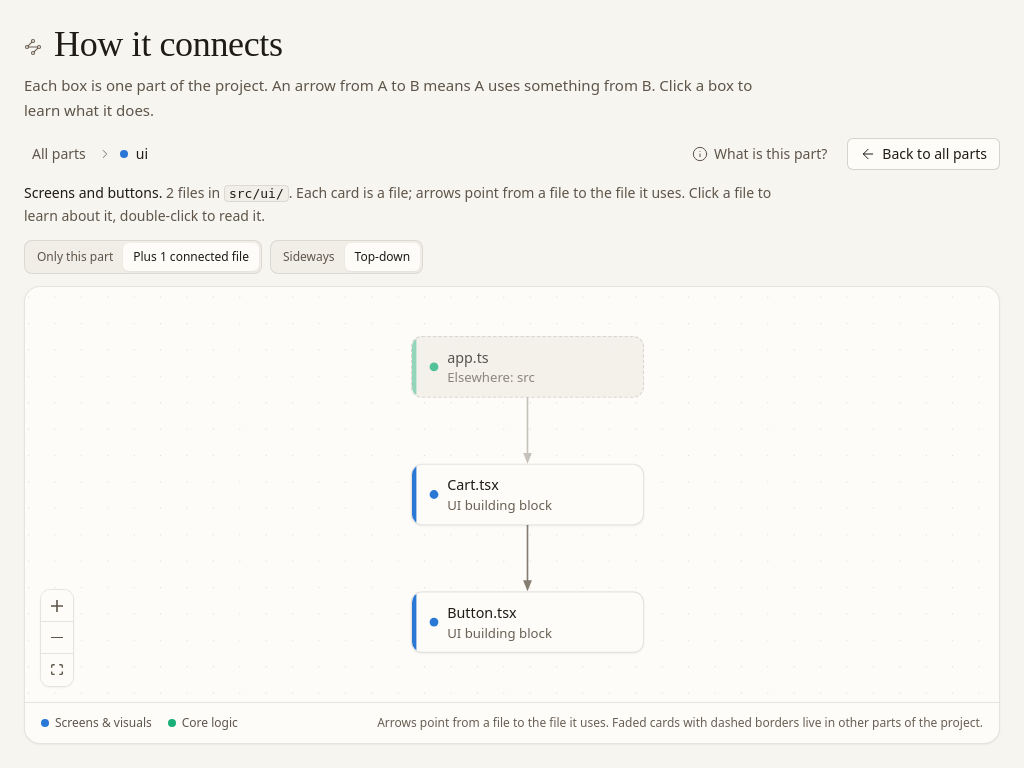
Test case: ArchitecturePage › Back returns from the drill-down to all parts
Click the button "Back to all parts": [924, 154] box [847,138,1000,170]
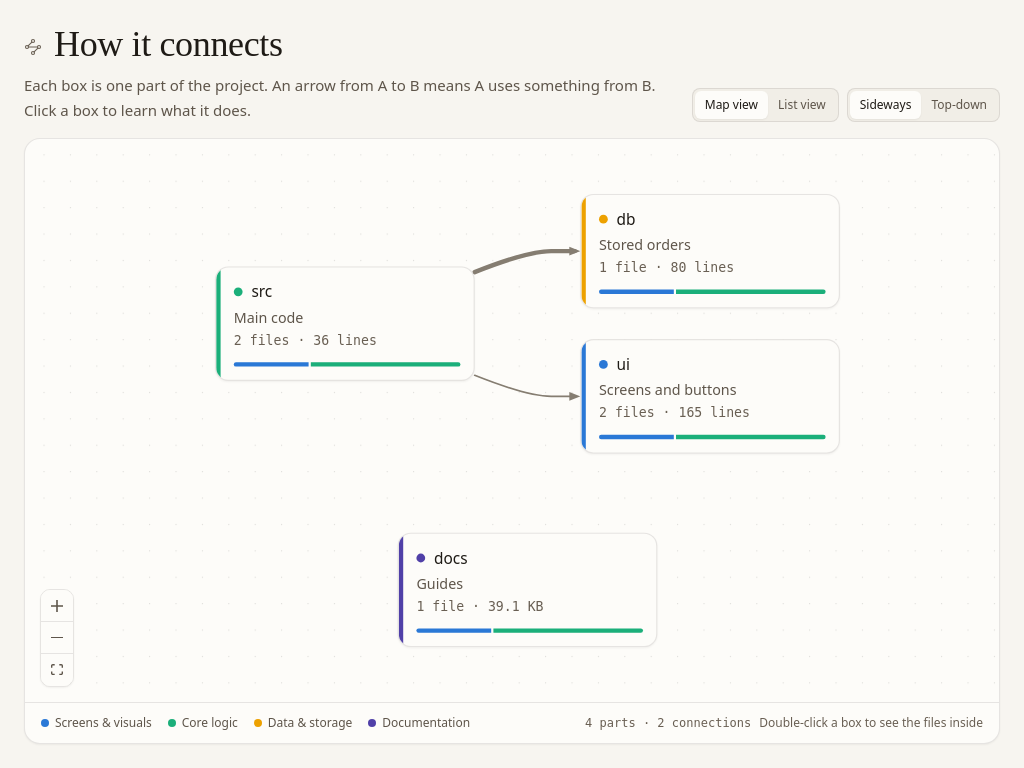
Expected: the element with test id "architecture-graph" is shown
